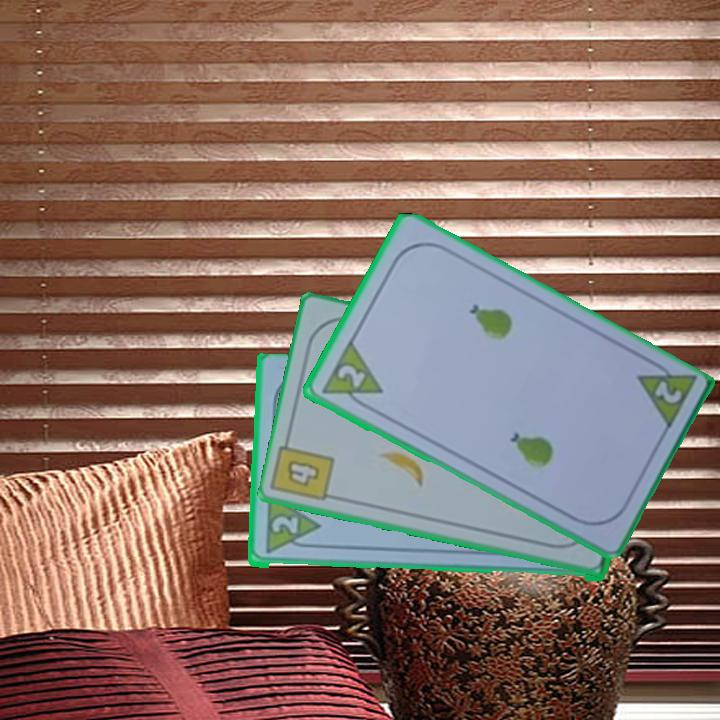2p: (317, 337, 385, 415), (650, 376, 685, 407), (268, 513, 301, 537)
4b: (282, 457, 322, 490)
